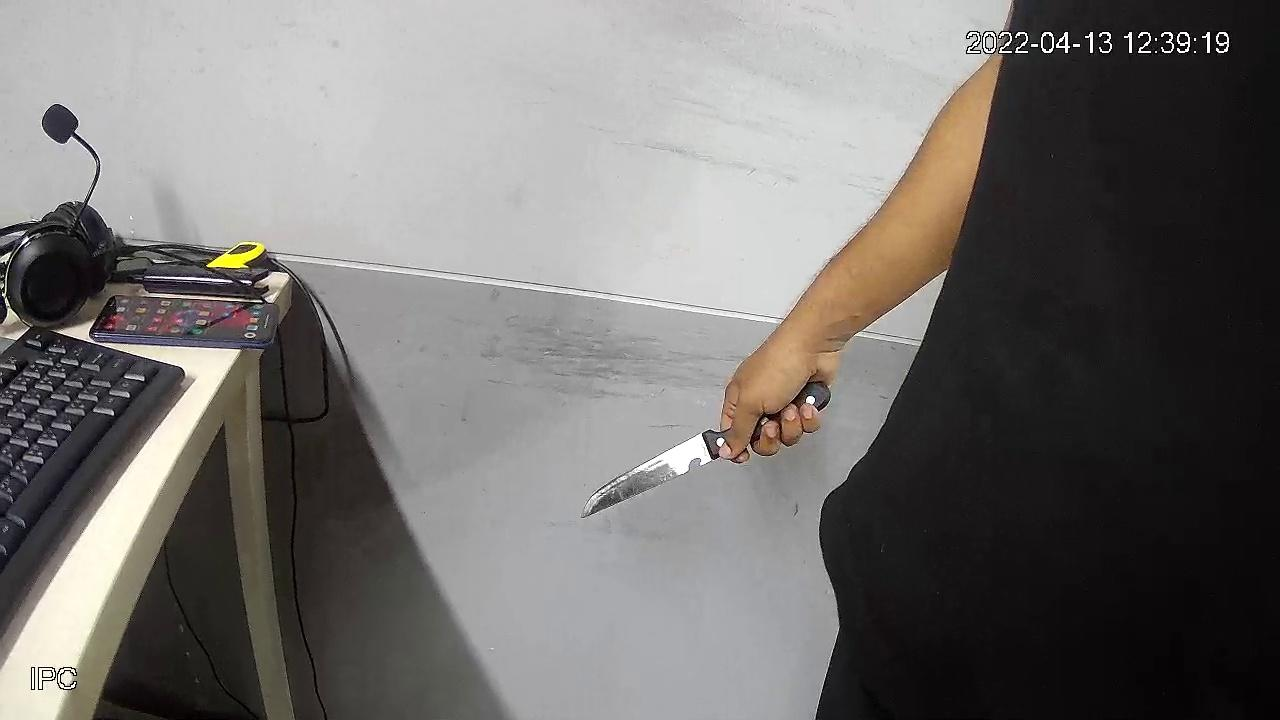knives: (579, 423, 714, 530)
